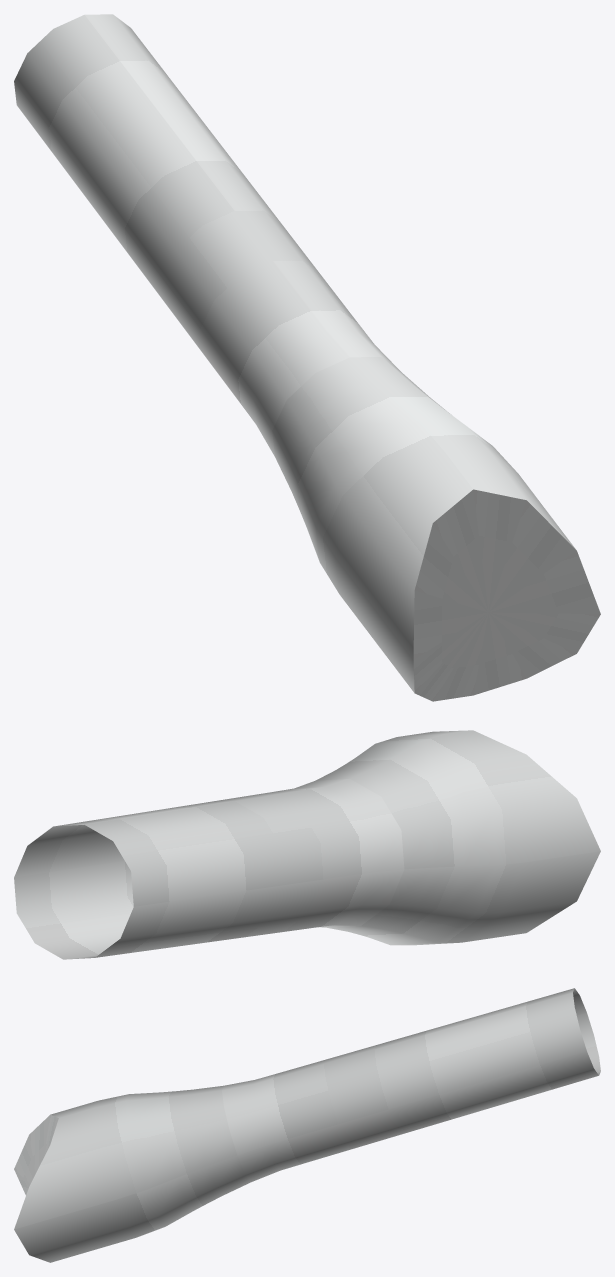
The model's file is luminairearm_caltrans12ftstraight_c0_pedestal.obj.
The picture shows the model from 3 angles, top to bottom: view 1: azimuth 30°, elevation 25°; view 2: azimuth 150°, elevation 25°; view 3: azimuth 270°, elevation 25°; orthographic projection. The views are drawn at different scales.
Visible parts, largest first — view 1: luminairearm_caltrans12ftstraight_c0_pedestal; view 2: luminairearm_caltrans12ftstraight_c0_pedestal; view 3: luminairearm_caltrans12ftstraight_c0_pedestal.
Part boxes in pixels (<box>): luminairearm_caltrans12ftstraight_c0_pedestal: <box>14,14,600,701</box>; luminairearm_caltrans12ftstraight_c0_pedestal: <box>14,730,600,959</box>; luminairearm_caltrans12ftstraight_c0_pedestal: <box>14,988,600,1262</box>.
Size of the model in its own units: 0.3375 by 0.6816 by 1.38.
